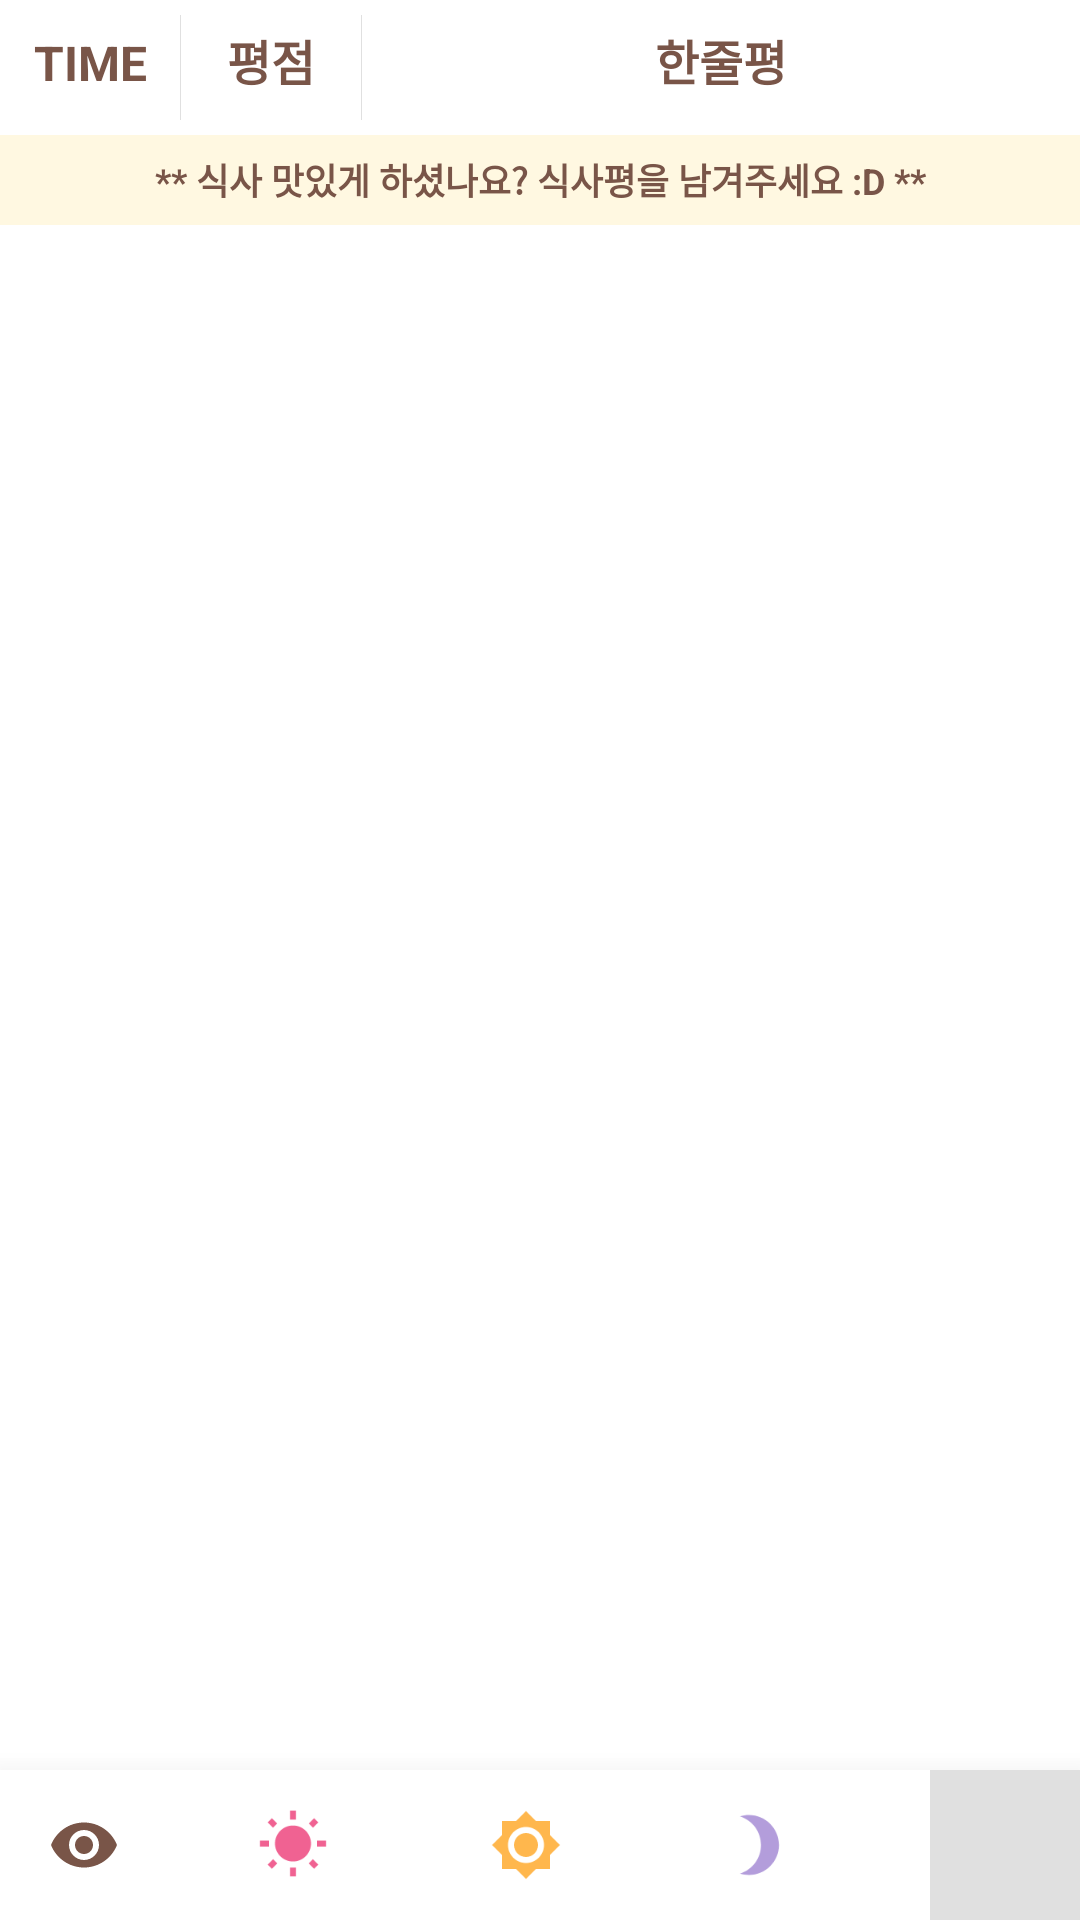

Screen size 1080px x 1920px. Icon name, then its center in pixels as (x,y):
morning: (293,1843)
night: (759,1845)
